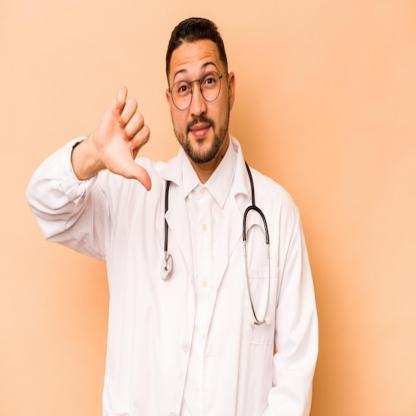thumb_down: (95, 83, 155, 195)
